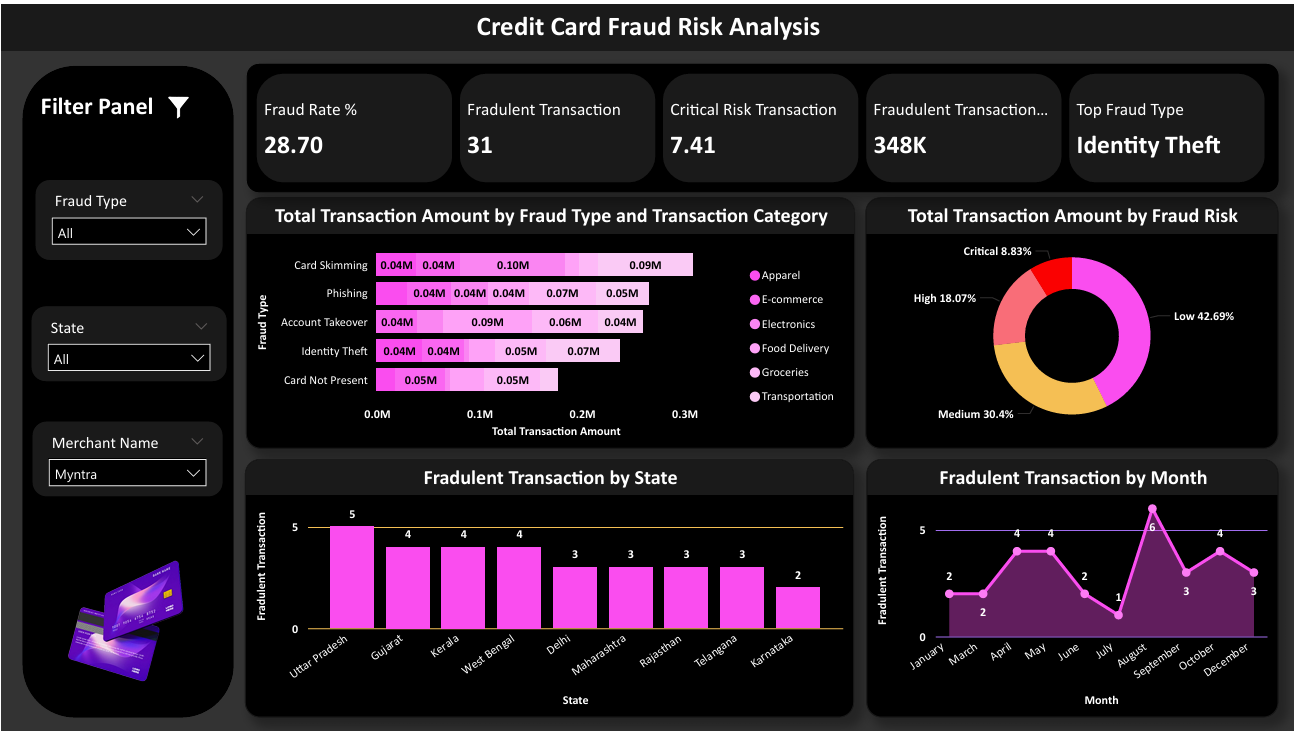

This screenshot's page, from the dashboard's own definition file:
{"tool":"powerbi","page":{"name":"Page 1","canvas":[1280,720],"ordinal":0},"visuals":[{"type":"textbox","box":[0,0,1280.6,46.3],"z":0},{"type":"shape","box":[15.3,62,208.8,644.2],"z":1000},{"type":"textbox","box":[43,80.4,141.8,46.3],"z":2000},{"type":"image","box":[153.4,80.4,61.2,43.3],"z":3000},{"type":"slicer","fields":{"Values":["Credit Card Fraud Risk Analysis (1).Fraud Type"]},"box":[26,171,184.3,80.2],"z":4000},{"type":"slicer","fields":{"Values":["Credit Card Fraud Risk Analysis (1).State"]},"box":[23.8,270.8,192.9,73.7],"z":5000},{"type":"slicer","fields":{"Values":["Credit Card Fraud Risk Analysis (1).Merchant Name"]},"box":[26,359.6,188.6,75.9],"z":6000},{"type":"image","box":[39,496.5,145.3,138.7],"z":7000},{"type":"cardVisual","fields":{"Data":["Credit Card Fraud Risk Analysis (1).Fraud Rate %","Credit Card Fraud Risk Analysis (1).Fradulent Transaction","Credit Card Fraud Risk Analysis (1).Critical Risk Transaction","Credit Card Fraud Risk Analysis (1).Fraudulent Transaction Amount","Credit Card Fraud Risk Analysis (1).Top fraud Type"]},"box":[234.1,54.2,1021.1,127.9],"z":8000},{"type":"barChart","fields":{"Category":["Credit Card Fraud Risk Analysis (1).Fraud Type"],"Y":["Credit Card Fraud Risk Analysis (1).Total Transaction"],"Series":["Credit Card Fraud Risk Analysis (1).Transaction Category"]},"box":[234.1,188.6,602.7,249.3],"z":9000},{"type":"donutChart","fields":{"Category":["Credit Card Fraud Risk Analysis (1).Fraud Risk"],"Y":["Credit Card Fraud Risk Analysis (1).Total Transaction"]},"box":[845.5,188.6,409.7,249.3],"z":10000},{"type":"columnChart","fields":{"Category":["Credit Card Fraud Risk Analysis (1).State"],"Y":["Credit Card Fraud Risk Analysis (1).Fradulent Transaction"]},"box":[234.1,448.8,602.7,255.8],"z":11000},{"type":"lineChart","fields":{"Category":["Credit Card Fraud Risk Analysis (1).Transaction Date.Variation.Date Hierarchy.Month"],"Y":["Credit Card Fraud Risk Analysis (1).Fradulent Transaction"]},"box":[847.7,448.8,407.6,255.8],"z":12000}]}

Visuals, with their boxes in screenshot pixels (x1, y1, x2, y2), scaled from the page's 1280x720 canvas onto the 1294x731 screenshot:
textbox: [0,0,1293,47]
shape: [15,63,227,717]
textbox: [43,82,187,129]
image: [155,82,217,126]
slicer - Credit Card Fraud Risk Analysis (1).Fraud Type: [26,174,213,255]
slicer - Credit Card Fraud Risk Analysis (1).State: [24,275,219,350]
slicer - Credit Card Fraud Risk Analysis (1).Merchant Name: [26,365,217,442]
image: [39,504,186,645]
cardVisual - Credit Card Fraud Risk Analysis (1).Fraud Rate % x Credit Card Fraud Risk Analysis (1).Fradulent Transaction: [237,55,1269,185]
barChart - Credit Card Fraud Risk Analysis (1).Fraud Type x Credit Card Fraud Risk Analysis (1).Total Transaction: [237,191,846,445]
donutChart - Credit Card Fraud Risk Analysis (1).Fraud Risk x Credit Card Fraud Risk Analysis (1).Total Transaction: [855,191,1269,445]
columnChart - Credit Card Fraud Risk Analysis (1).State x Credit Card Fraud Risk Analysis (1).Fradulent Transaction: [237,456,846,715]
lineChart - Credit Card Fraud Risk Analysis (1).Transaction Date.Variation.Date Hierarchy.Month x Credit Card Fraud Risk Analysis (1).Fradulent Transaction: [857,456,1269,715]
